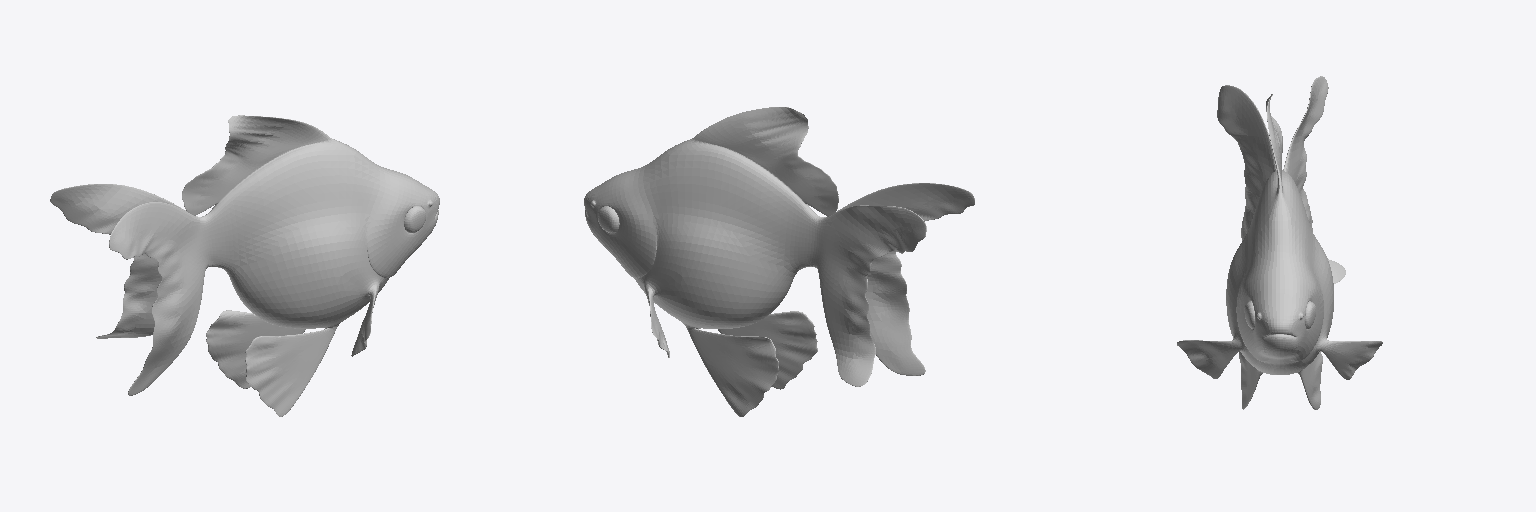
File: kuti_goldfish.obj
The picture shows the model from 3 angles: view 1: azimuth 30°, elevation 25°; view 2: azimuth 150°, elevation 25°; view 3: azimuth 270°, elevation 25°; orthographic projection.
Visible parts, largest first — view 1: Ryukin_Goldfish; view 2: Ryukin_Goldfish; view 3: Ryukin_Goldfish.
Boxes of the visible parts, x1=… form: Ryukin_Goldfish: x1=50, y1=115, x2=439, y2=416; Ryukin_Goldfish: x1=584, y1=107, x2=974, y2=416; Ryukin_Goldfish: x1=1177, y1=76, x2=1382, y2=409.
Bounding box in the file's own units: 13.13 × 10.27 × 6.45.